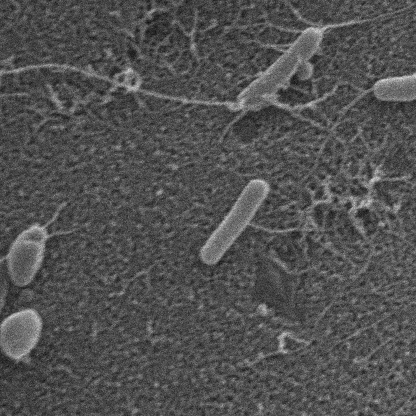cell2cell: (270, 84, 372, 110)
cell2surface: (0, 66, 238, 110), (320, 0, 416, 32), (246, 32, 301, 53), (255, 14, 305, 36), (283, 0, 312, 27), (253, 227, 325, 236), (0, 258, 7, 312)
regular: (235, 23, 320, 116), (201, 179, 264, 268), (5, 227, 44, 286), (368, 66, 416, 101), (0, 314, 35, 360), (0, 264, 9, 401)
